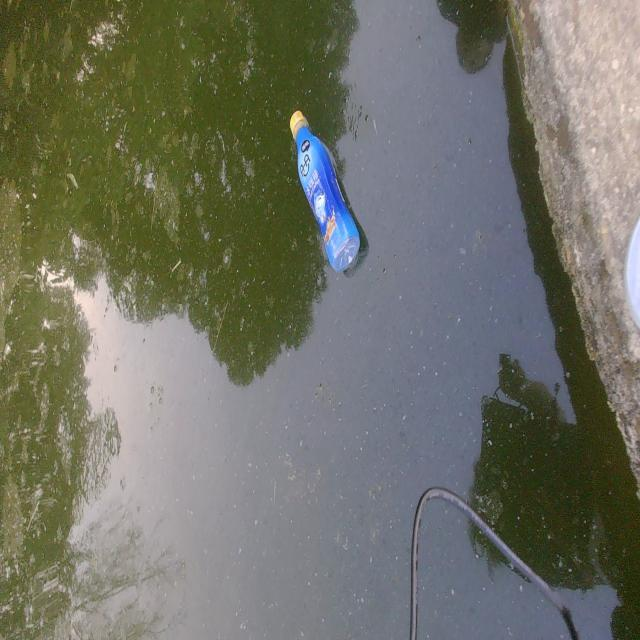Bottle: (282, 102, 373, 282)
